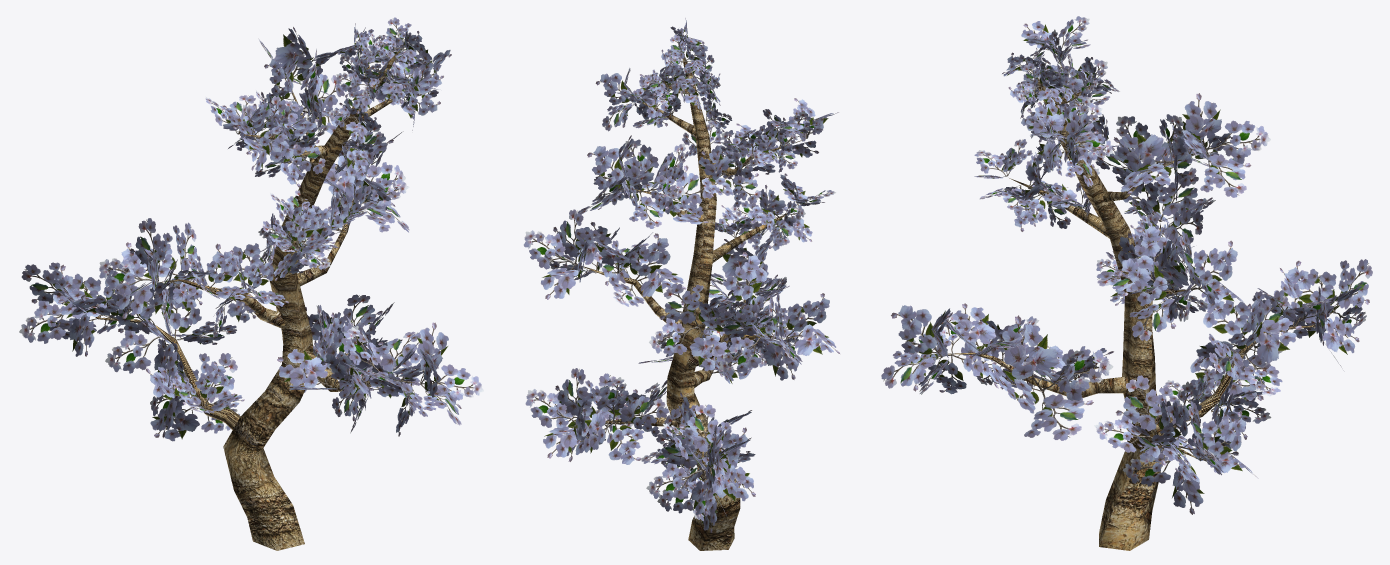
The model's file is Sakura_LOD1.fbx.
3 renders of one model, left to right at view 1: azimuth 30°, elevation 25°; view 2: azimuth 150°, elevation 25°; view 3: azimuth 270°, elevation 25°, orthographic. The views are drawn at different scales.
Visible parts, largest first — view 1: leavesSideLod1, trunkLod1; view 2: leavesSideLod1, trunkLod1; view 3: leavesSideLod1, trunkLod1.
Boxes of the visible parts, x1,y1,x2,y2 form: leavesSideLod1: [19, 17, 483, 441]; trunkLod1: [95, 39, 416, 550]; leavesSideLod1: [523, 18, 839, 533]; trunkLod1: [583, 56, 804, 550]; leavesSideLod1: [881, 16, 1372, 514]; trunkLod1: [948, 66, 1332, 550].
Size of the model in its own units: 48.94 by 75.35 by 63.8.
